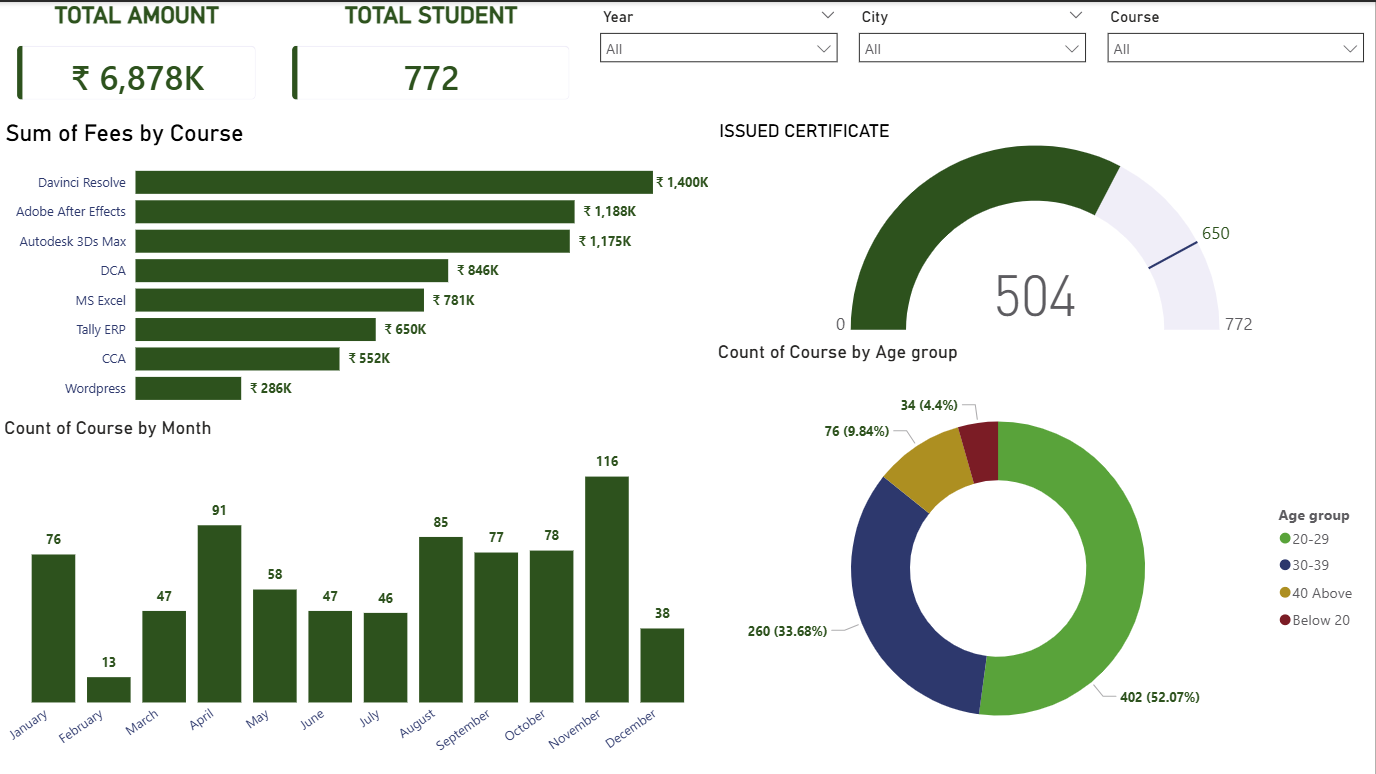

This screenshot's page, from the dashboard's own definition file:
{"tool":"powerbi","page":{"name":"School Report","canvas":[1280,720],"ordinal":0},"visuals":[{"type":"clusteredColumnChart","fields":{"Category":["Student Course Details.Date of Join.Variation.Date Hierarchy.Year","Student Course Details.Date of Join.Variation.Date Hierarchy.Quarter","Student Course Details.Date of Join.Variation.Date Hierarchy.Month","Student Course Details.Date of Join.Variation.Date Hierarchy.Day"],"Y":["Student Course Details.Course"]},"box":[0,386.2,663.8,333.8],"z":0},{"type":"donutChart","fields":{"Y":["Student Course Details.Course"],"Category":["Student Course Details.Age group"]},"box":[663.8,315,616.2,405],"z":1000},{"type":"clusteredBarChart","fields":{"Category":["Student Course Details.Course"],"Y":["Student Course Details.Fees"]},"box":[1.2,108.8,663.8,277.5],"z":2000},{"type":"cardVisual","title":"TOTAL AMOUNT","fields":{"Data":["Student Course Details.Fees"]},"box":[0,0,256.2,108.8],"z":3000},{"type":"cardVisual","title":"TOTAL STUDENT","fields":{"Data":["Personal Details.Student Name"]},"box":[256.2,0,292.5,108.8],"z":4000},{"type":"gauge","title":"ISSUED CERTIFICATE","fields":{"Y":["Personal Details.countyes1"]},"box":[665.1,109.3,615.1,205.8],"z":5000},{"type":"slicer","fields":{"Values":["Student Course Details.Date of Join.Variation.Date Hierarchy.Year"]},"box":[548.8,0,241.2,108.8],"z":6000},{"type":"slicer","fields":{"Values":["Personal Details.City"]},"box":[790,0,231.2,108.8],"z":7000},{"type":"slicer","fields":{"Values":["Student Course Details.Course"]},"box":[1021.2,0,258.8,108.8],"z":8000}]}

Visuals, with their boxes in screenshot pixels (x1, y1, x2, y2), scaled from the page's 1280x720 canvas onto the 1376x774 screenshot:
clusteredColumnChart - Student Course Details.Date of Join.Variation.Date Hierarchy.Year x Student Course Details.Date of Join.Variation.Date Hierarchy.Quarter: select_region(0, 415, 714, 773)
donutChart - Student Course Details.Course x Student Course Details.Age group: select_region(714, 339, 1375, 773)
clusteredBarChart - Student Course Details.Course x Student Course Details.Fees: select_region(1, 117, 715, 415)
"TOTAL AMOUNT" cardVisual: select_region(0, 0, 275, 117)
"TOTAL STUDENT" cardVisual: select_region(275, 0, 590, 117)
"ISSUED CERTIFICATE" gauge: select_region(715, 117, 1375, 339)
slicer - Student Course Details.Date of Join.Variation.Date Hierarchy.Year: select_region(590, 0, 849, 117)
slicer - Personal Details.City: select_region(849, 0, 1098, 117)
slicer - Student Course Details.Course: select_region(1098, 0, 1375, 117)
